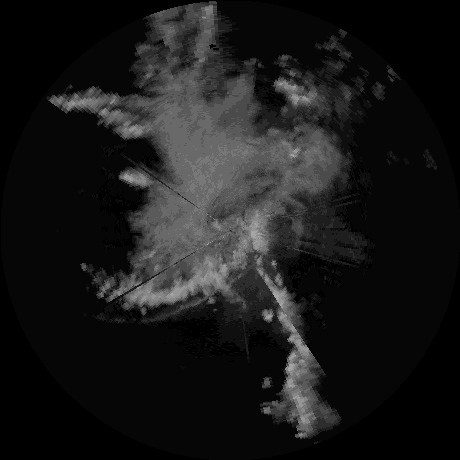frontgust: (96, 299, 211, 325), (228, 265, 255, 285)
